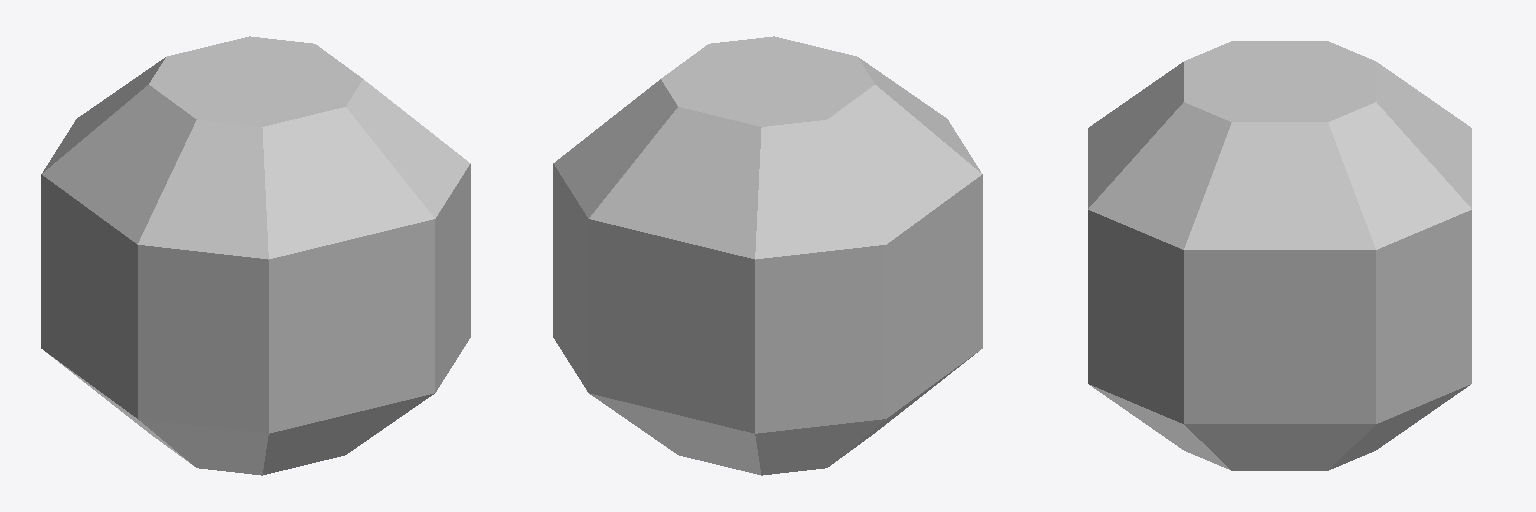
The model's file is bubble.obj.
3 views of the same model, side by side, from view 1: azimuth 30°, elevation 25°; view 2: azimuth 150°, elevation 25°; view 3: azimuth 270°, elevation 25° (orthographic).
Parts seen in each view (by area): view 1: bubble; view 2: bubble; view 3: bubble.
Part boxes in pixels (left/top/right/bottom): bubble: left=41, top=36, right=470, bottom=475; bubble: left=553, top=36, right=982, bottom=475; bubble: left=1088, top=41, right=1471, bottom=470.
Size of the model in its own units: 2 by 2 by 2.